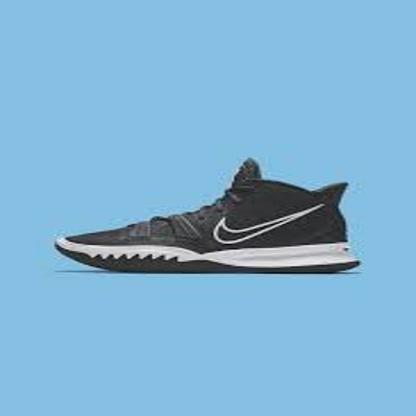not trash: (57, 161, 358, 272)
